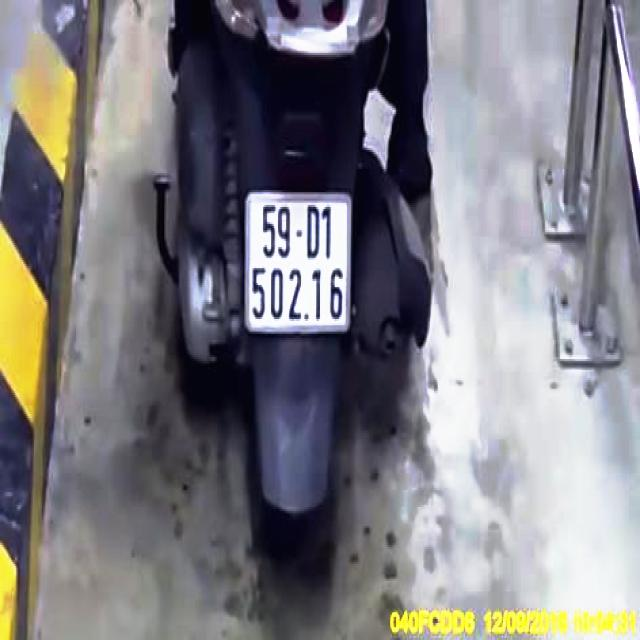license_plate: (245, 197, 355, 329)
